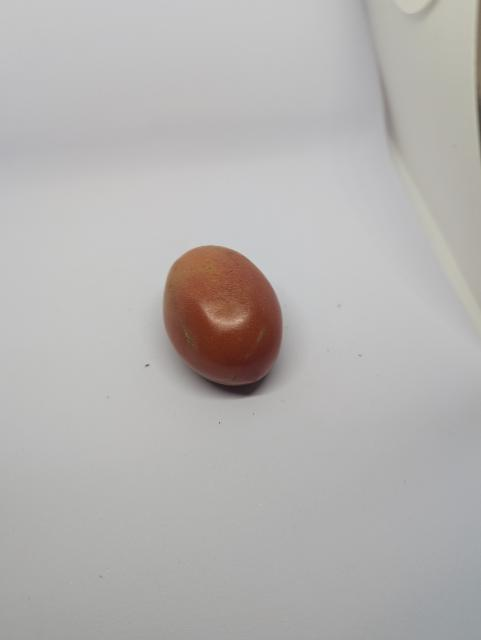red: (152, 241, 308, 405)
